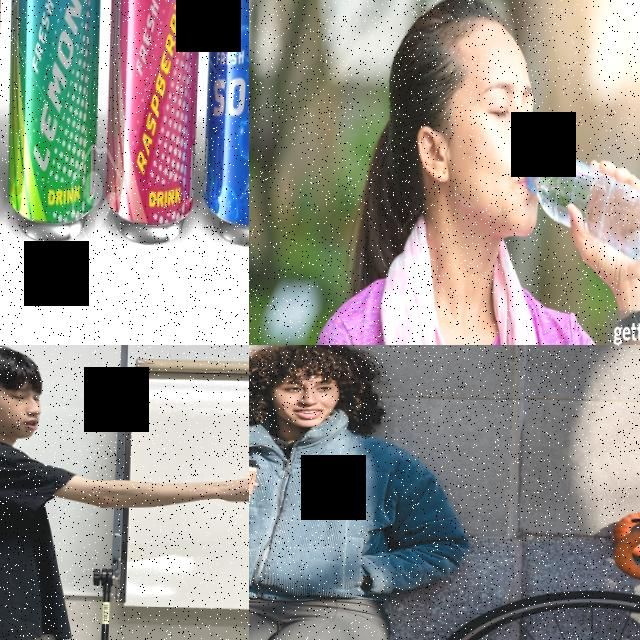bottle: (522, 151, 640, 265)
can: (102, 0, 204, 248), (4, 0, 104, 245), (200, 0, 249, 249)
cup: (249, 457, 260, 502)
